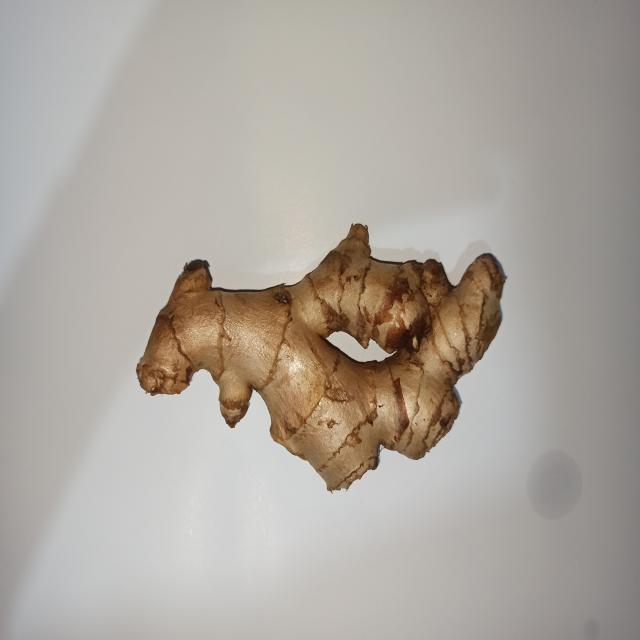ginger: (152, 230, 488, 486)
